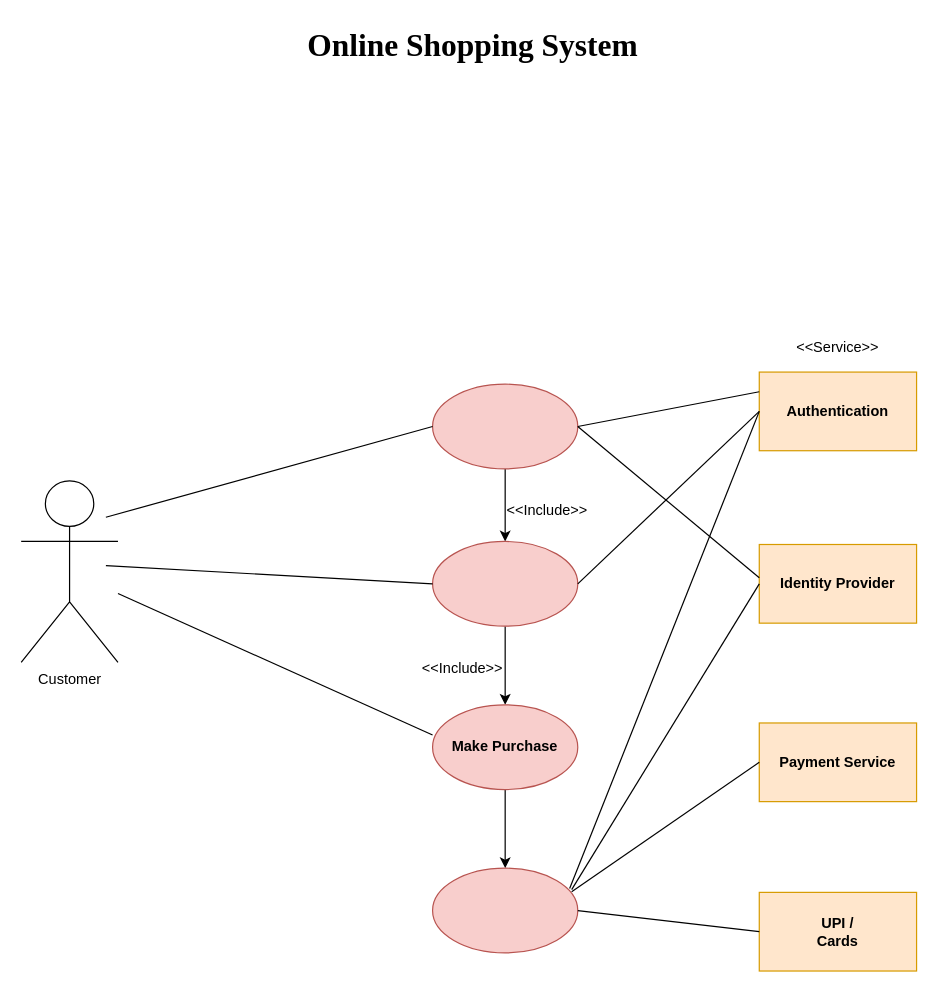
Image size: 938x992. Some labels were removed from this diagram. Each missing label, with the centre of its shape:
"Login/ Sign In" goes at (x=504, y=426).
"Order Checkout" goes at (x=504, y=910).
"View Items" goes at (x=504, y=583).
